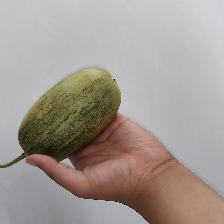gua: (13, 76, 115, 157)
